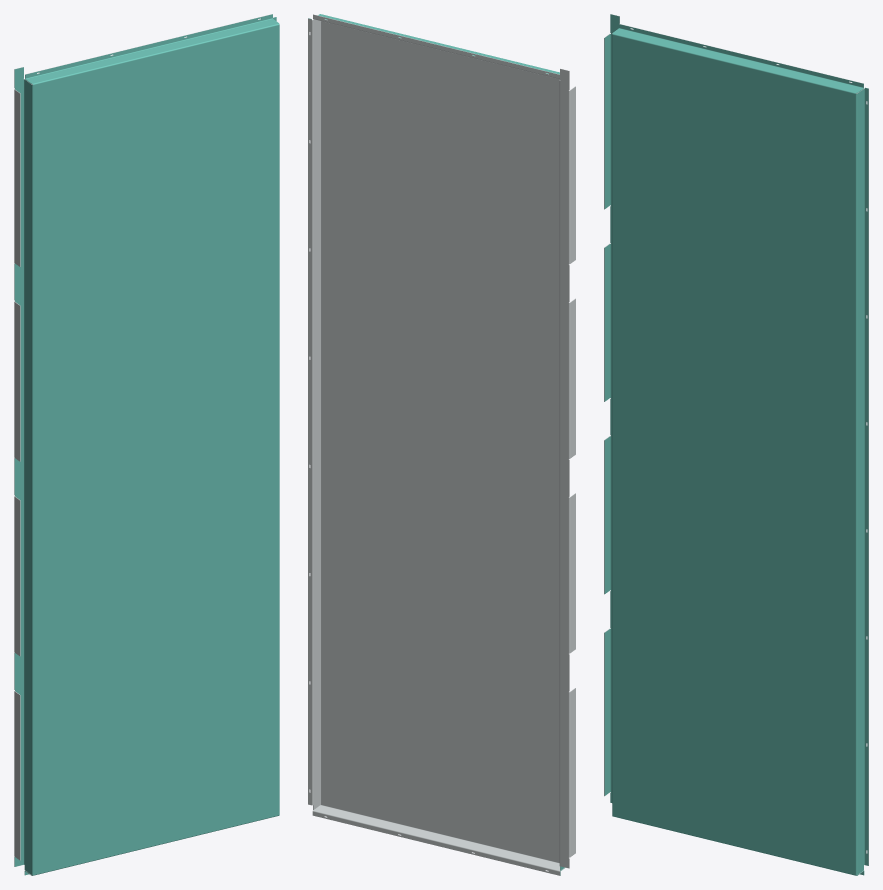
Rendered from panel.glb.
3 renders of one model, left to right at view 1: azimuth 30°, elevation 25°; view 2: azimuth 150°, elevation 25°; view 3: azimuth 330°, elevation 25°, orthographic.
Visible parts, largest first — view 1: face_0_paint, face_1_paint, metal_metal, face_3_paint, bend_0_paint, face_6_paint, bend_4_paint, face_12_paint, bend_1_paint, bend_6_metal, bend_3_paint; view 2: metal_metal, bend_6_metal, bend_5_metal, bend_4_metal, bend_1_metal, face_6_paint, bend_10_metal; view 3: face_0_paint, face_2_paint, face_7_paint, face_4_paint, bend_1_paint, face_3_paint, metal_metal, face_6_paint, face_12_paint, bend_0_paint, bend_5_paint, bend_6_paint (+1 smaller).
Boxes of the visible parts, x1,y1,x2,y2 form: face_0_paint: (33, 25, 278, 874); face_1_paint: (24, 75, 31, 875); metal_metal: (14, 14, 279, 875); face_3_paint: (14, 67, 23, 866); bend_0_paint: (31, 84, 33, 875); face_6_paint: (26, 17, 278, 83); bend_4_paint: (23, 79, 24, 864); face_12_paint: (25, 14, 272, 78); bend_1_paint: (279, 25, 279, 815); bend_6_metal: (14, 90, 14, 856); bend_3_paint: (32, 23, 279, 85); metal_metal: (308, 14, 575, 875); bend_6_metal: (568, 90, 570, 857); bend_5_metal: (312, 20, 313, 805); bend_4_metal: (559, 81, 560, 865); bend_1_metal: (320, 21, 321, 804); face_6_paint: (308, 14, 559, 74); bend_10_metal: (312, 810, 560, 871); face_0_paint: (613, 35, 855, 874); face_2_paint: (857, 84, 864, 875); face_7_paint: (604, 34, 609, 795); face_4_paint: (865, 88, 868, 865); bend_1_paint: (855, 93, 857, 875); face_3_paint: (610, 14, 619, 802); metal_metal: (604, 14, 868, 875); face_6_paint: (612, 28, 868, 92); face_12_paint: (619, 24, 863, 87); bend_0_paint: (612, 34, 612, 816); bend_5_paint: (864, 88, 864, 864); bend_6_paint: (610, 34, 610, 792).
Bounding box in the file's own units: 0.99 × 2.92 × 0.055.
